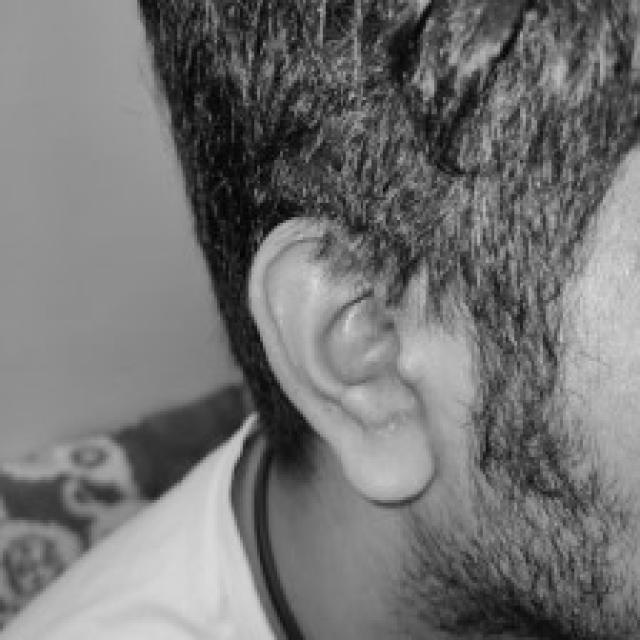ear: (246, 217, 431, 500)
